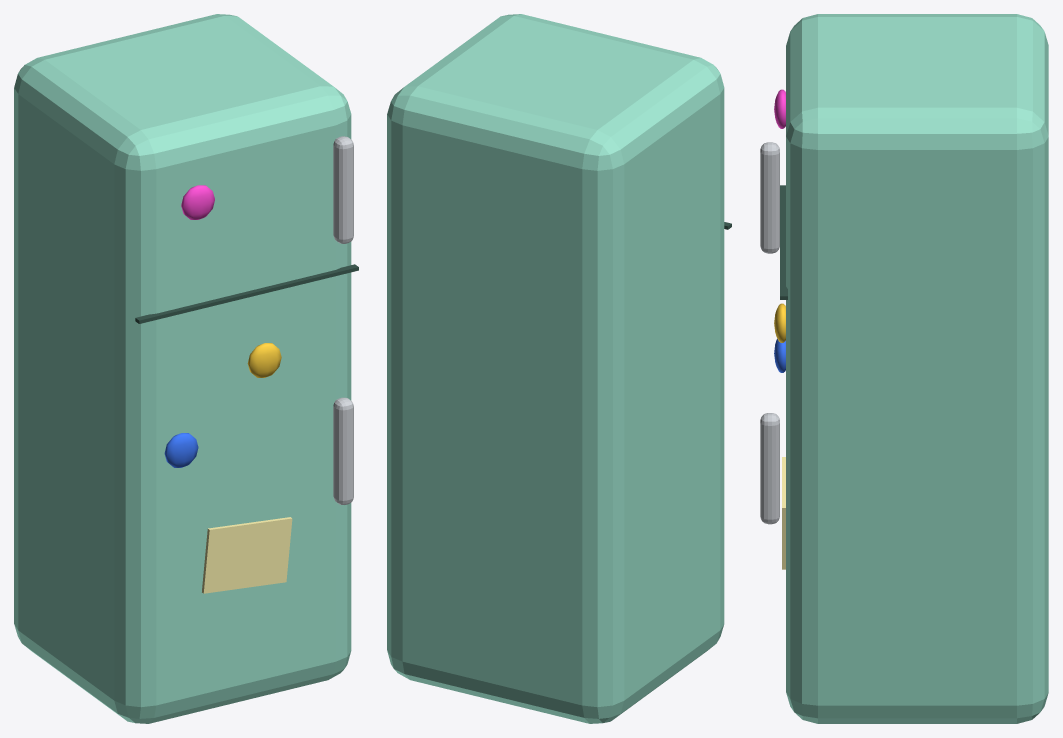
File: Furn_Fridge.fbx
3 views of the same model, side by side, from view 1: azimuth 30°, elevation 25°; view 2: azimuth 150°, elevation 25°; view 3: azimuth 270°, elevation 25° (orthographic). The views are drawn at different scales.
Visible parts, largest first — view 1: Furn_Fridge; view 2: Furn_Fridge; view 3: Furn_Fridge.
Boxes of the visible parts, bbox=[...] form: Furn_Fridge: bbox=[14, 14, 358, 723]; Furn_Fridge: bbox=[387, 14, 731, 723]; Furn_Fridge: bbox=[760, 14, 1048, 723].
Size of the model in its own units: 0.7 by 1.7 by 0.725.
